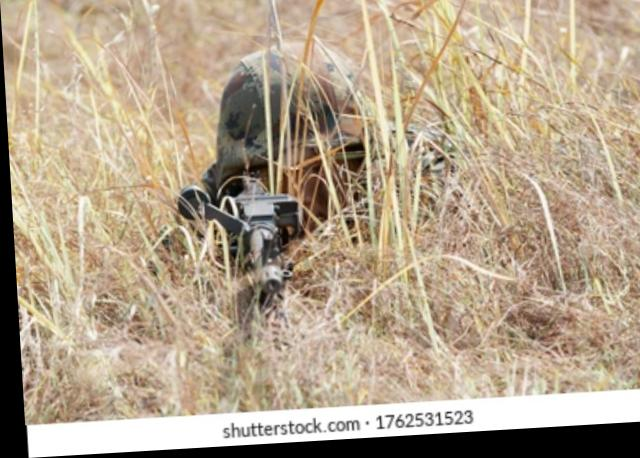other: (174, 38, 409, 294)
